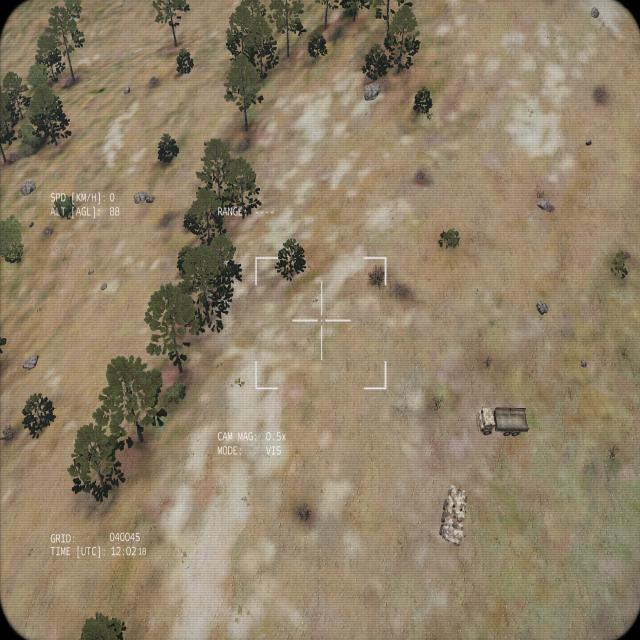apc: (438, 484, 468, 548)
truck: (476, 406, 529, 438)
